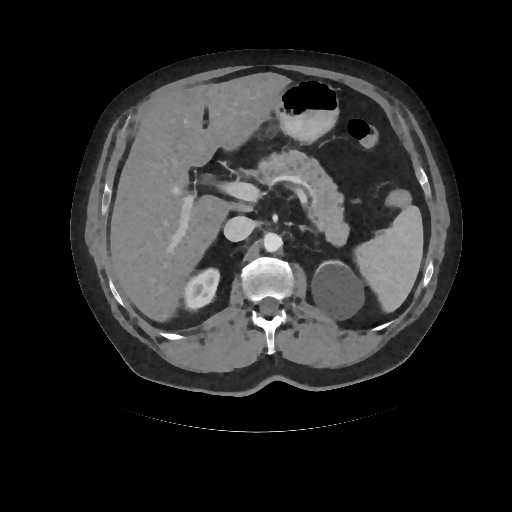Lesion: (305, 261, 368, 325)
